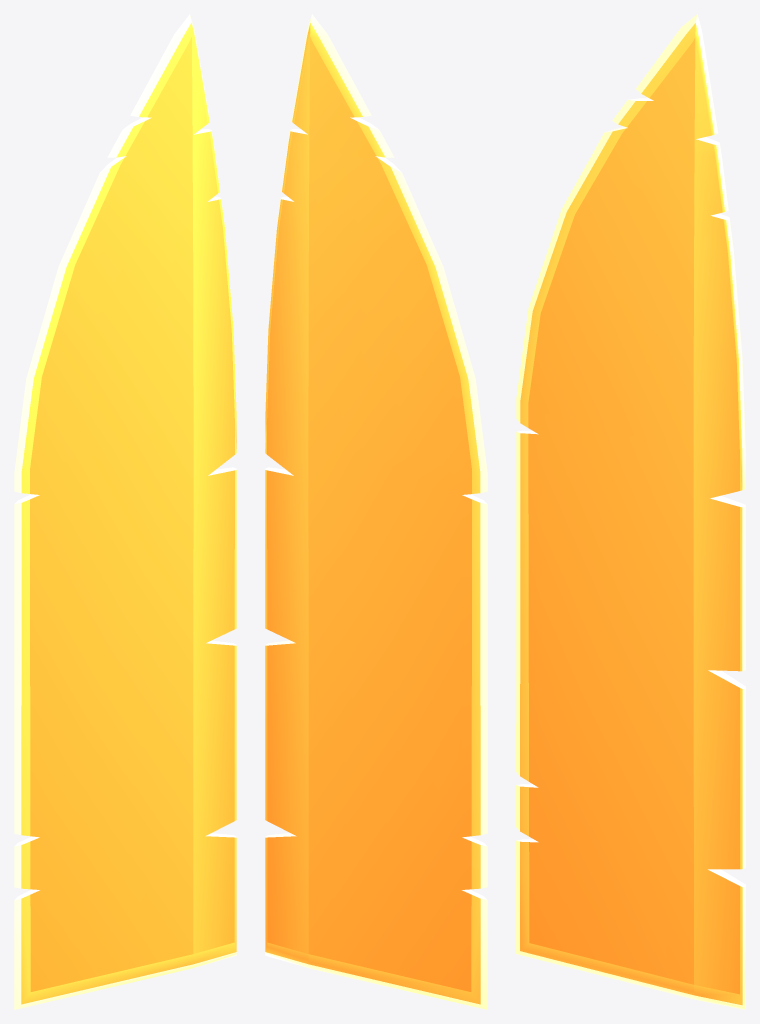
File: gold_blade_scratched_056.glb
3 views of the same model, side by side, from view 1: azimuth 30°, elevation 25°; view 2: azimuth 150°, elevation 25°; view 3: azimuth 330°, elevation 25° (orthographic). The views are drawn at different scales.
Parts seen in each view (by area): view 1: gold_blade_scratched.056; view 2: gold_blade_scratched.056; view 3: gold_blade_scratched.056.
Part boxes in pixels (box(x1,y1,x2,y2)): gold_blade_scratched.056: box(14, 14, 236, 1009); gold_blade_scratched.056: box(265, 14, 487, 1009); gold_blade_scratched.056: box(516, 14, 745, 1009).
Bounding box in the file's own units: 2.79 × 11.43 × 0.1594.
1 material, 1 textured.
